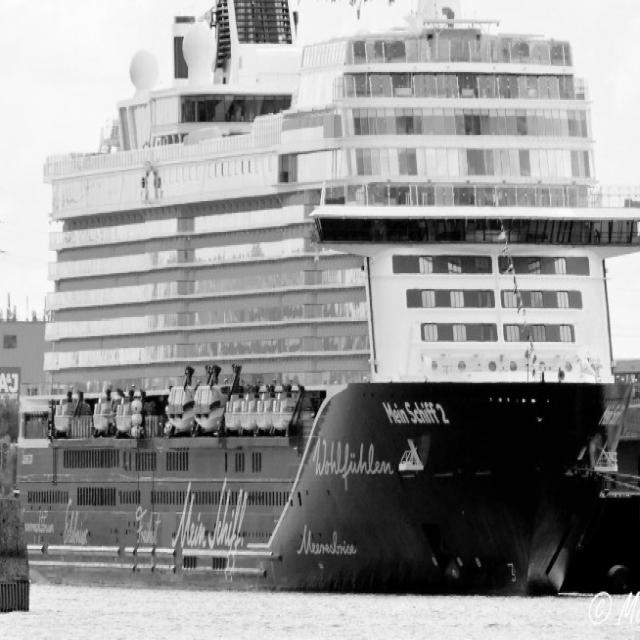cruises: (11, 1, 640, 604)
